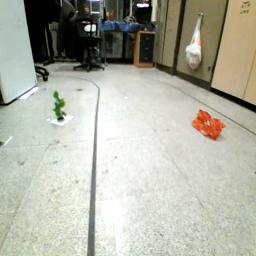herb: (52, 90, 70, 121)
wild: (193, 109, 228, 143)
